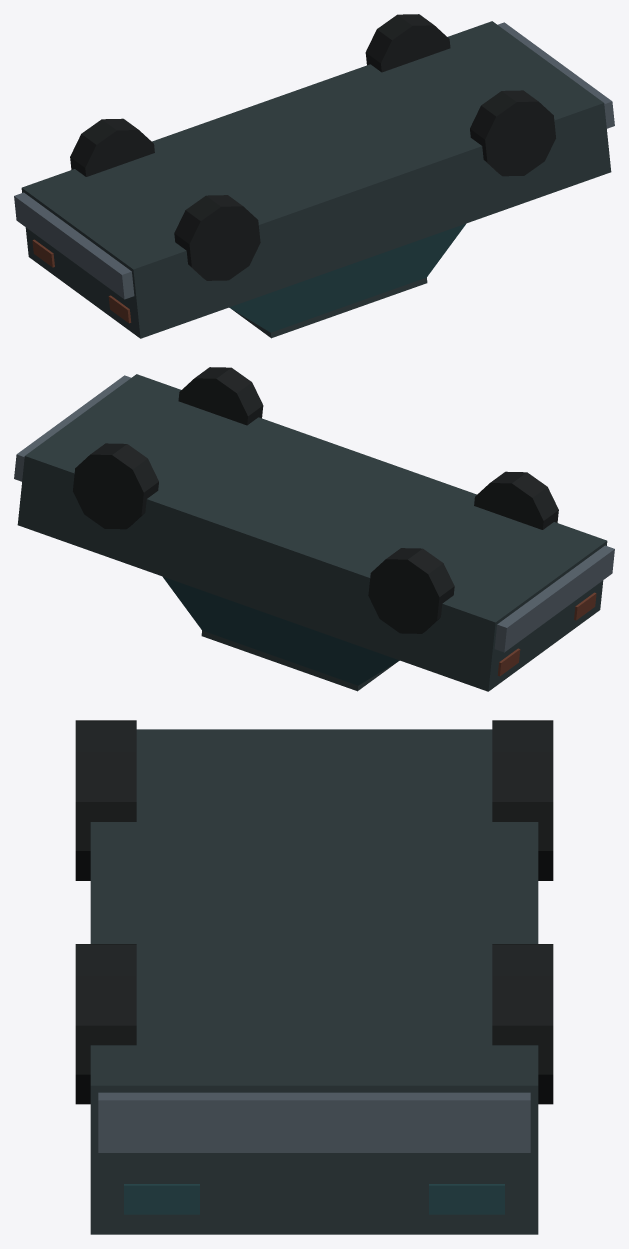
File: car_flipped.glb
3 renders of one model, top to bottom at view 1: azimuth 30°, elevation 25°; view 2: azimuth 150°, elevation 25°; view 3: azimuth 270°, elevation 25°, orthographic. The views are drawn at different scales.
Visible parts, largest first — view 1: car_flipped; view 2: car_flipped; view 3: car_flipped.
Boxes of the visible parts, <box> form: car_flipped: <box>14,14,614,338</box>; car_flipped: <box>14,367,614,691</box>; car_flipped: <box>75,720,553,1234</box>.
Bounding box in the file's own units: 4.48 × 1.65 × 1.88.
